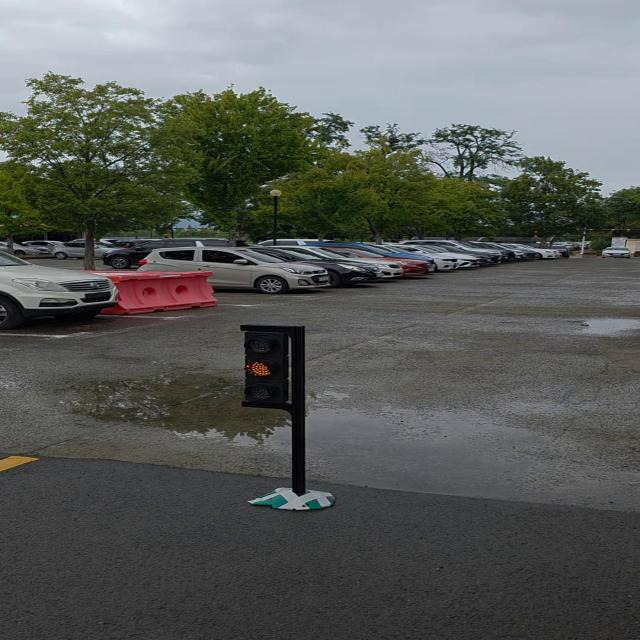yellow: (242, 327, 296, 413)
